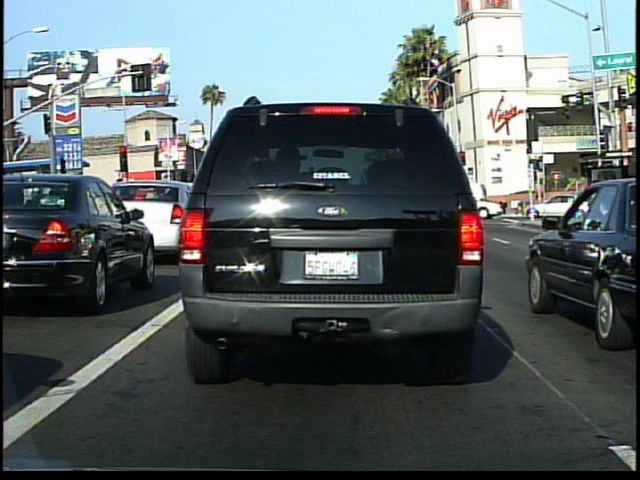person: (583, 173, 607, 230)
